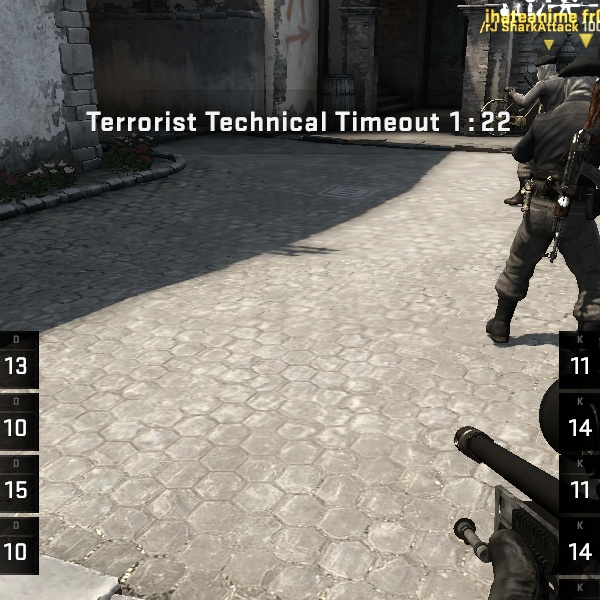t_body: (491, 51, 592, 370)
